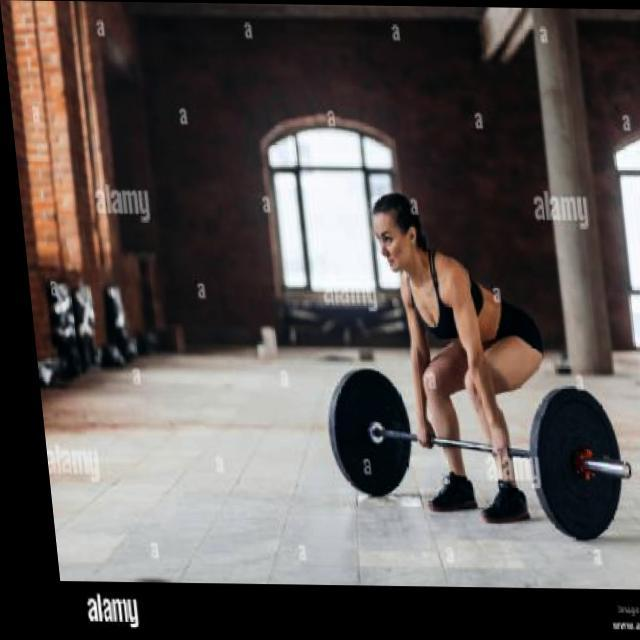barbell: (512, 379, 640, 547)
